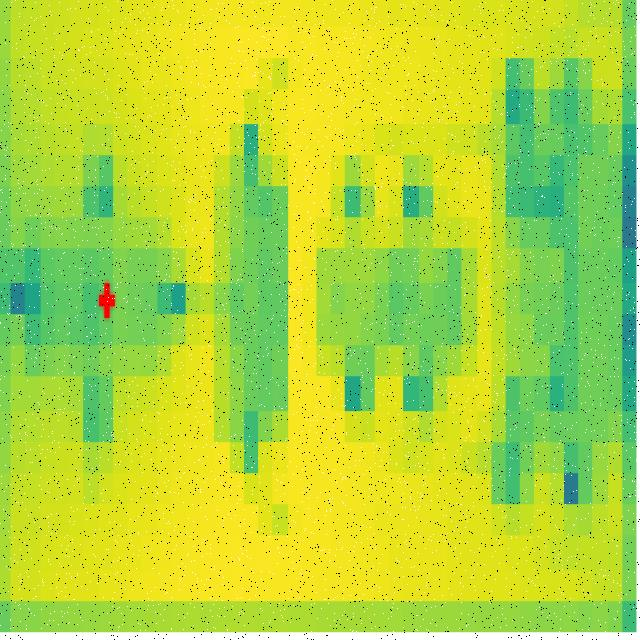Concrete: (22, 215, 178, 380)
Glass: (494, 99, 614, 441)
Metal: (213, 190, 290, 444)
Wood: (316, 242, 478, 380)
